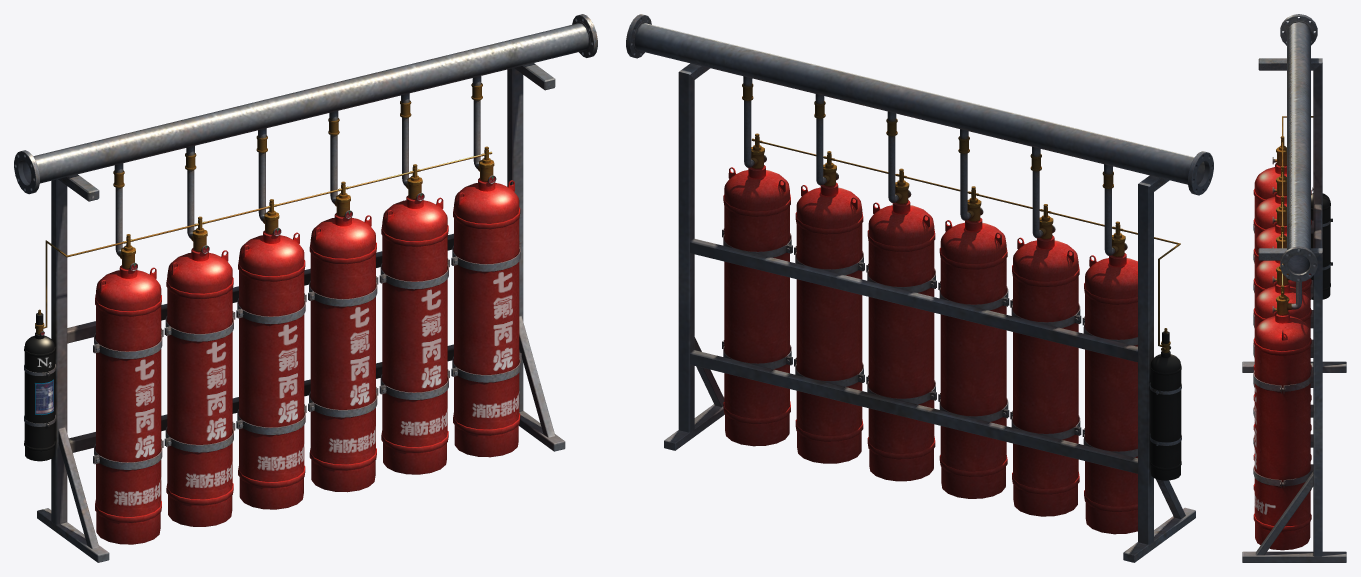
File: guishi.FBX
3 renders of one model, left to right at view 1: azimuth 30°, elevation 25°; view 2: azimuth 150°, elevation 25°; view 3: azimuth 270°, elevation 25°, orthographic. The views are drawn at different scales.
Parts seen in each view (by area): view 1: Cylinder049, Capsule002, Capsule006, Capsule003, Capsule004, Capsule001, Capsule005; view 2: Cylinder049, Capsule003, Capsule004, Capsule005, Capsule002, Capsule006, Capsule001; view 3: Cylinder049, Capsule006, Capsule005, Capsule004, Capsule001, Capsule002, Capsule003.
Boxes of the visible parts, x1,y1,x2,y2 form: Cylinder049: (14,14,597,562); Capsule002: (164,146,235,526); Capsule006: (451,76,521,457); Capsule003: (236,128,306,509); Capsule004: (308,111,378,492); Capsule001: (93,163,163,544); Capsule005: (379,93,449,474); Cylinder049: (626,14,1213,562); Capsule003: (938,129,1009,498); Capsule004: (866,111,936,481); Capsule005: (794,94,864,463); Capsule002: (1010,146,1081,516); Capsule006: (722,76,792,446); Capsule001: (1082,164,1137,534); Cylinder049: (1242,14,1346,562); Capsule006: (1253,278,1313,550); Capsule005: (1253,263,1313,490); Capsule004: (1253,225,1313,460); Capsule001: (1253,136,1314,370); Capsule002: (1253,166,1313,401); Capsule003: (1253,195,1313,431).
Size of the model in its own units: 148 by 99.4 by 27.83.
Materials: 2 (2 with a texture image).
